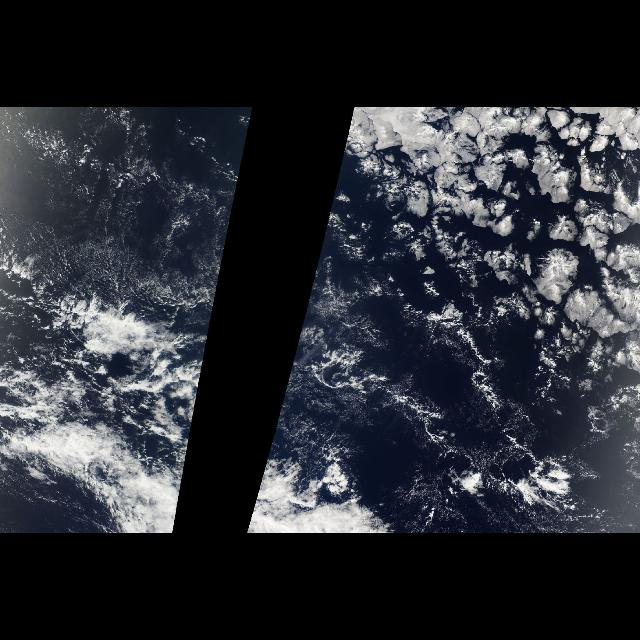Fish: (5, 303, 183, 493)
Flower: (295, 107, 639, 387)
Gravel: (306, 257, 508, 488)
Sugar: (1, 107, 250, 329), (302, 288, 508, 534)
